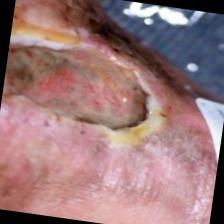wound-ulser: (0, 34, 164, 143)
